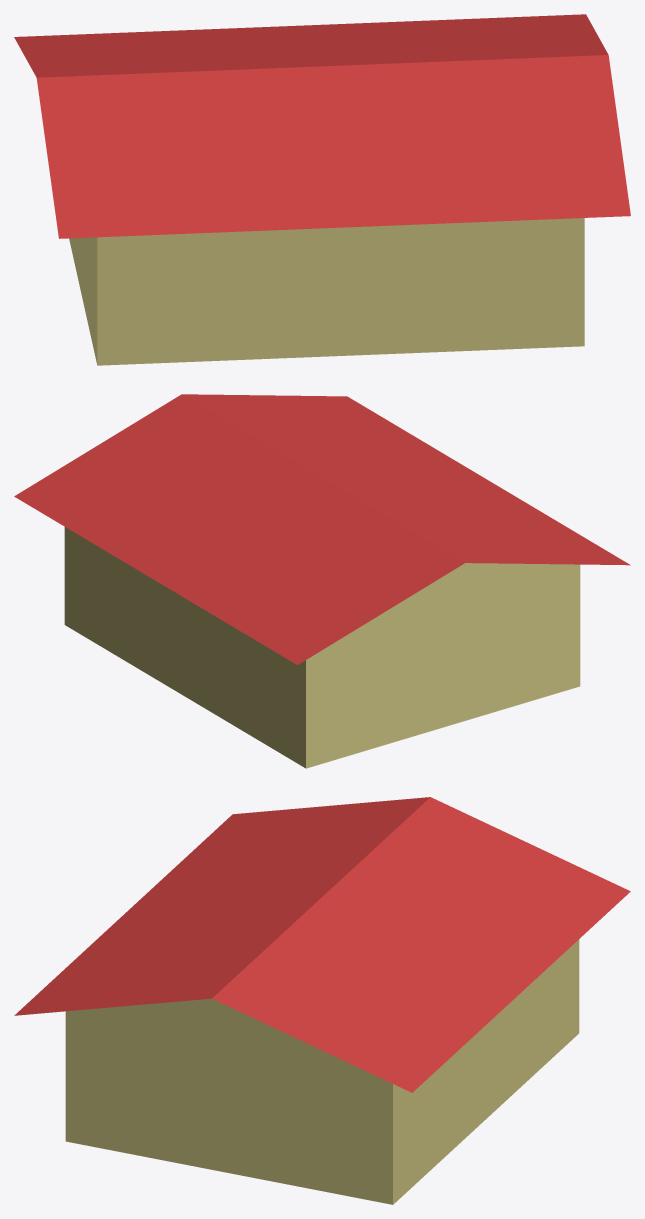
The picture shows the model from 3 angles, top to bottom: view 1: azimuth 30°, elevation 25°; view 2: azimuth 150°, elevation 25°; view 3: azimuth 270°, elevation 25°; orthographic projection. The views are drawn at different scales.
Bounding box in the file's own units: 33.9 × 31.71 × 10.74.
